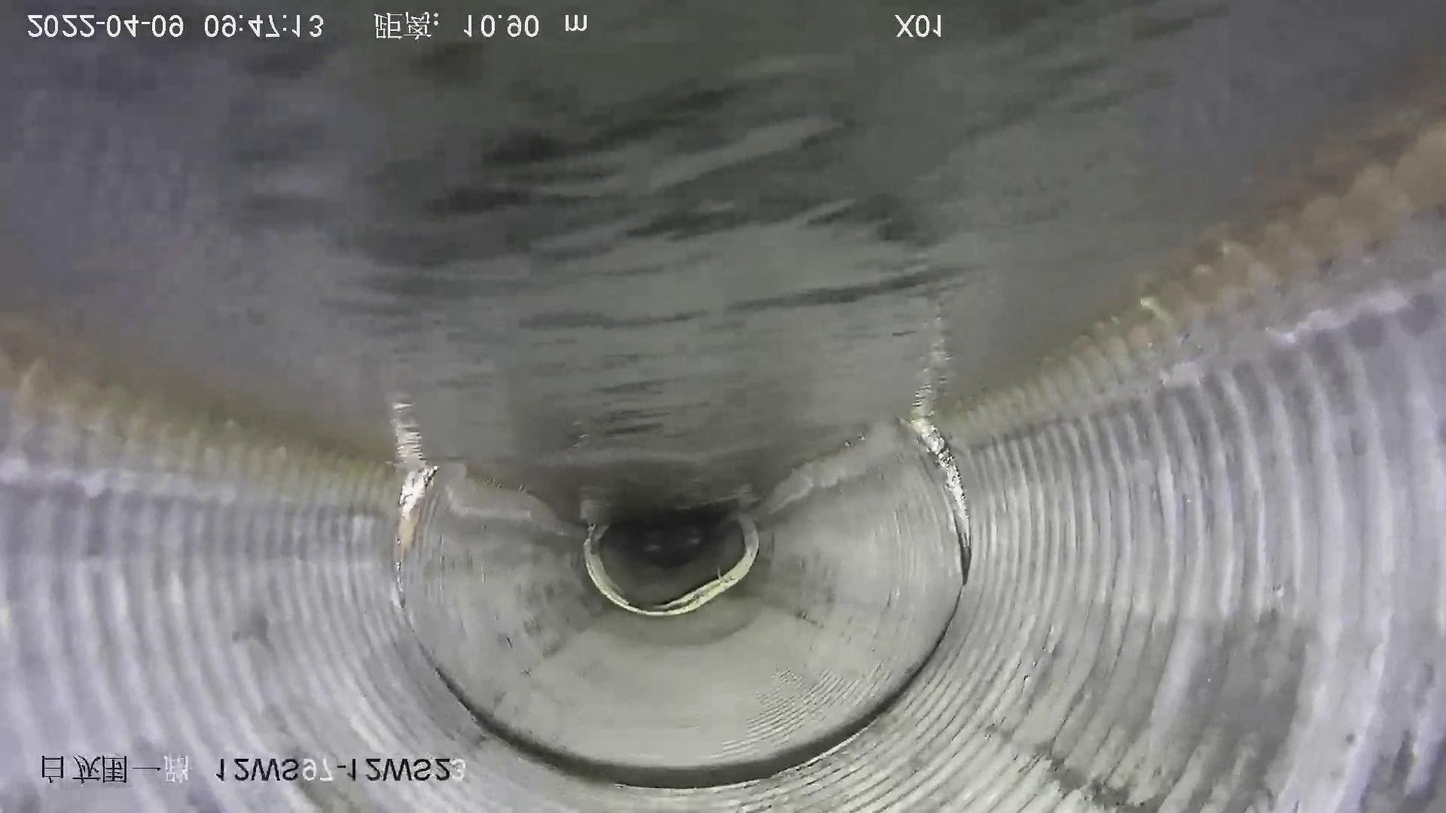BX: (581, 507, 773, 629)
CKTJ: (582, 515, 759, 617), (901, 415, 971, 582), (396, 464, 439, 568)
